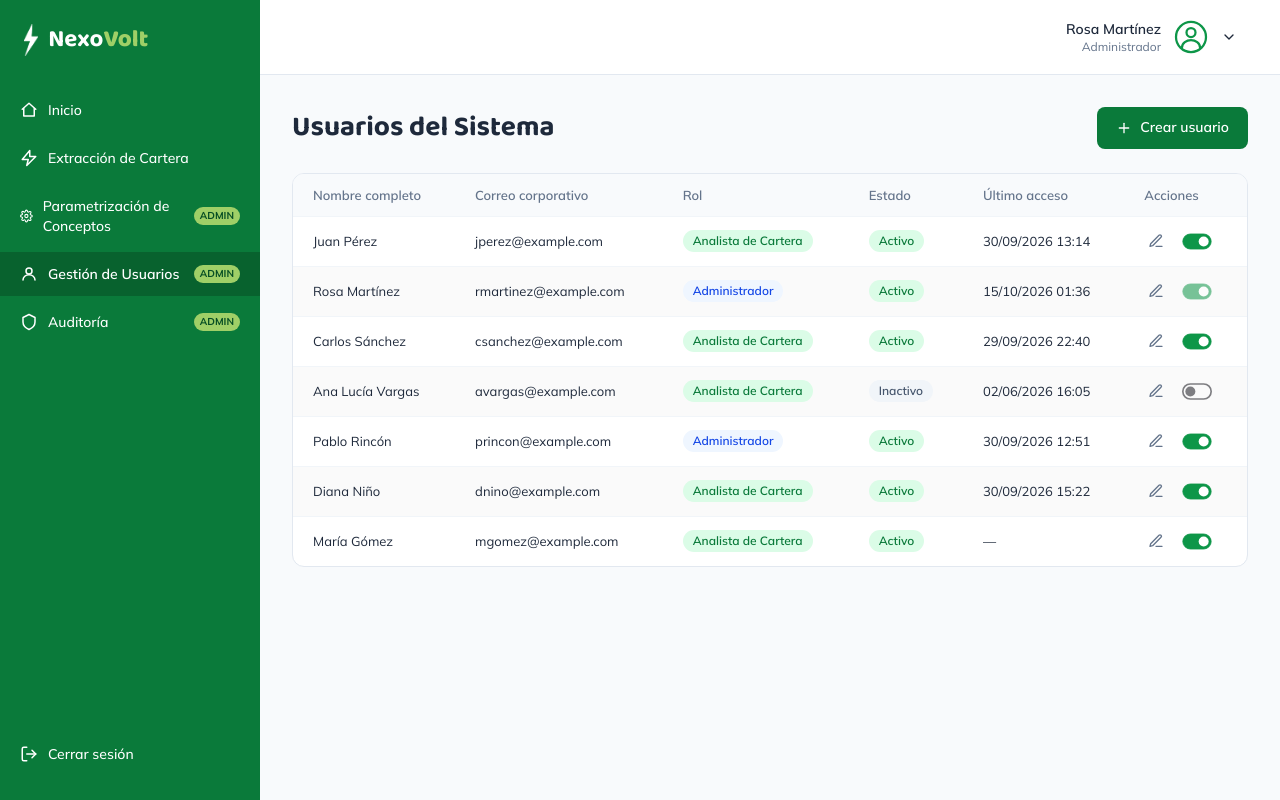
Test: crear usuario › el panel valida los campos y enfoca el primero
Expected: the text "Juan Pérez" is shown, [293, 216, 455, 266]
Click the button "Crear usuario": (1173, 128) [1097, 107, 1248, 148]
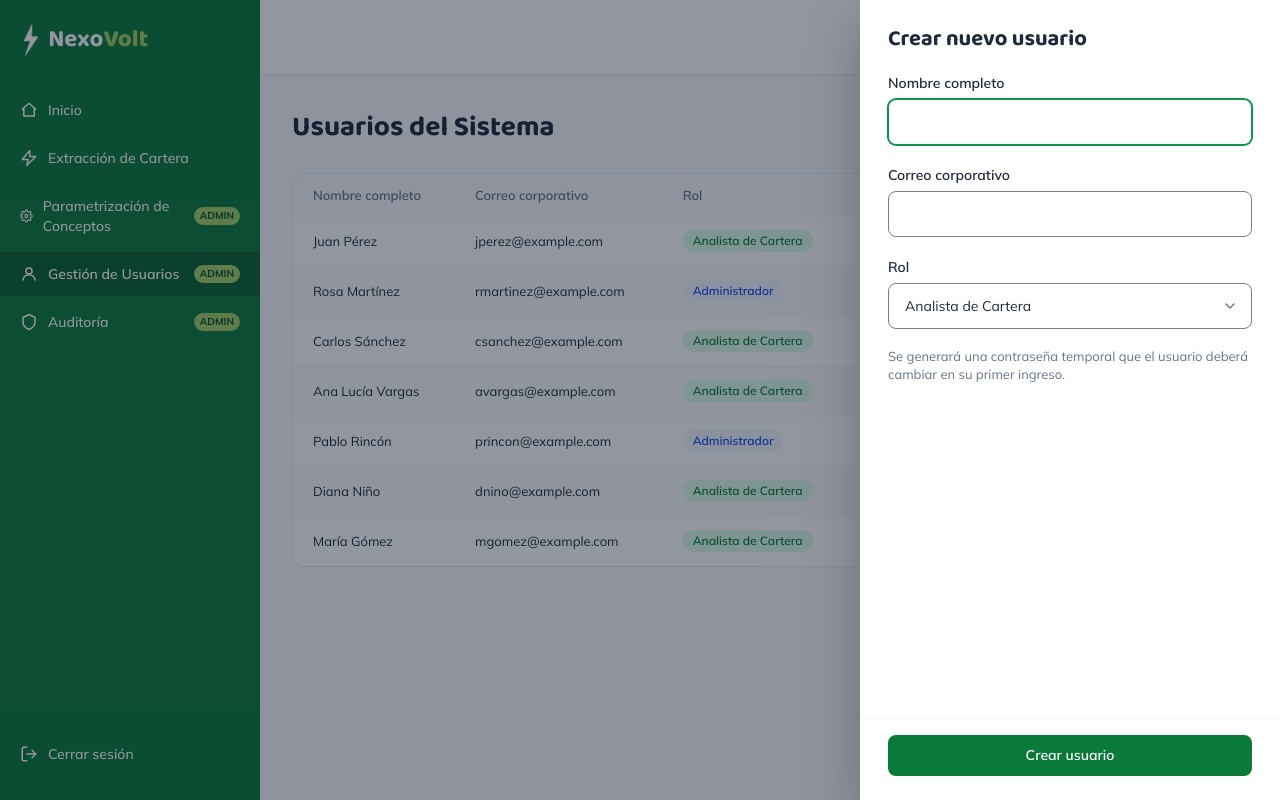
Click the button "Crear usuario": (1070, 755) [888, 734, 1252, 776]
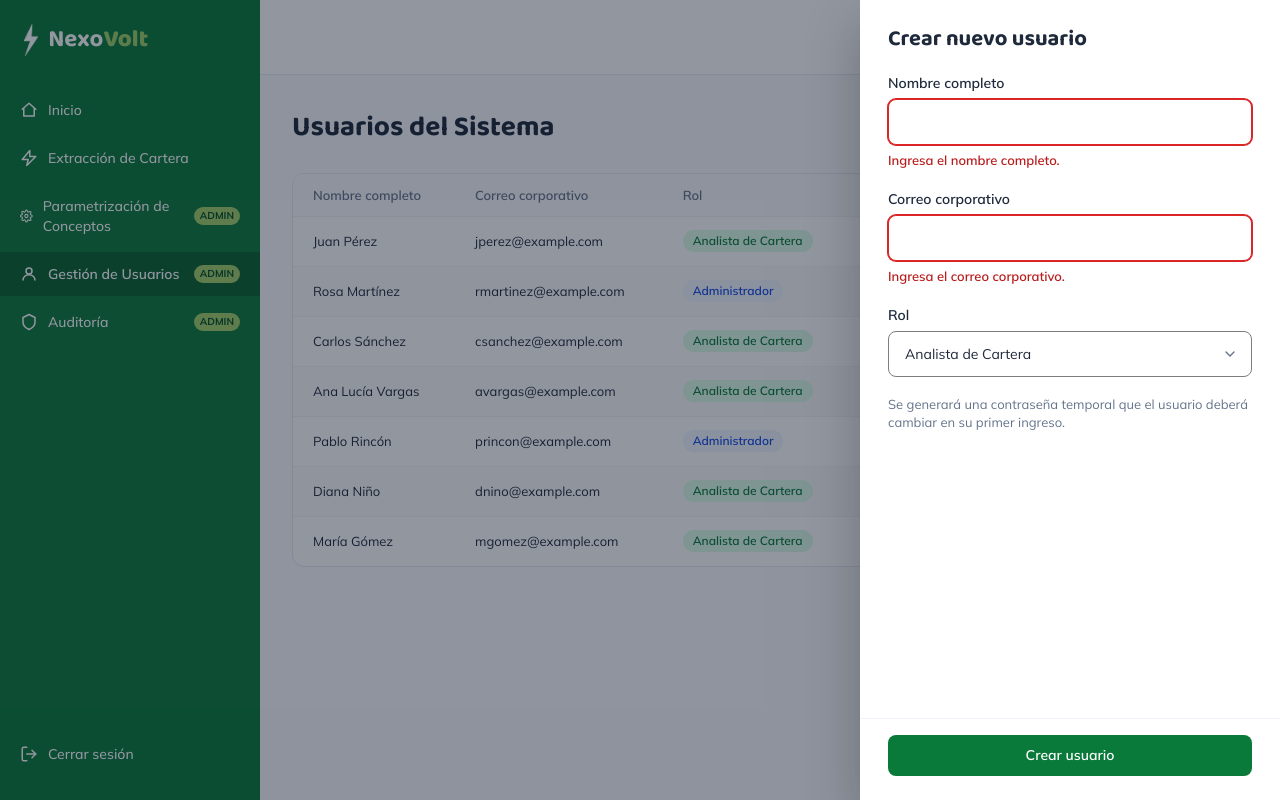
Now the text "Ingresa el nombre completo." is shown, box [888, 152, 1060, 168]
Now the text "Ingresa el correo corporativo." is shown, box [888, 268, 1065, 284]
